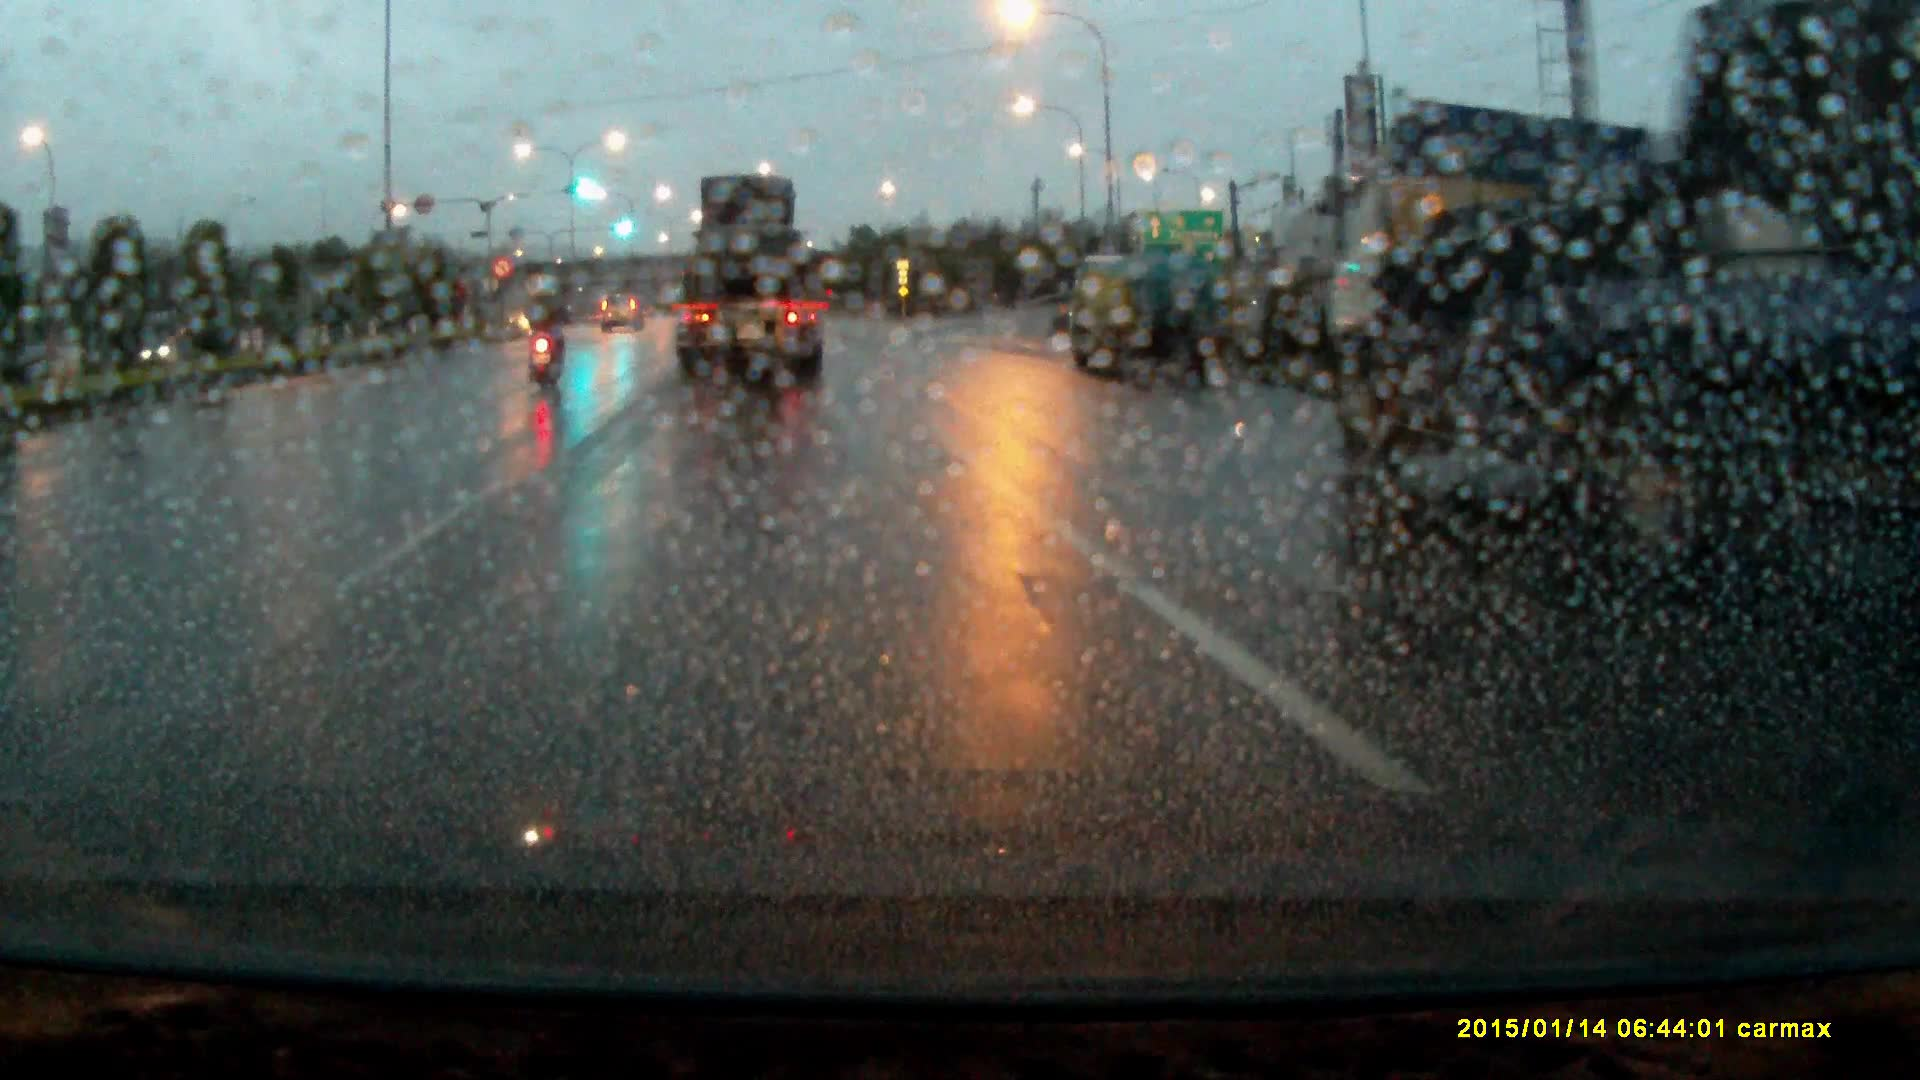rider: (524, 272, 576, 387)
vehicle: (1314, 103, 1920, 575), (669, 171, 828, 391), (1065, 256, 1231, 379), (601, 294, 646, 336)
